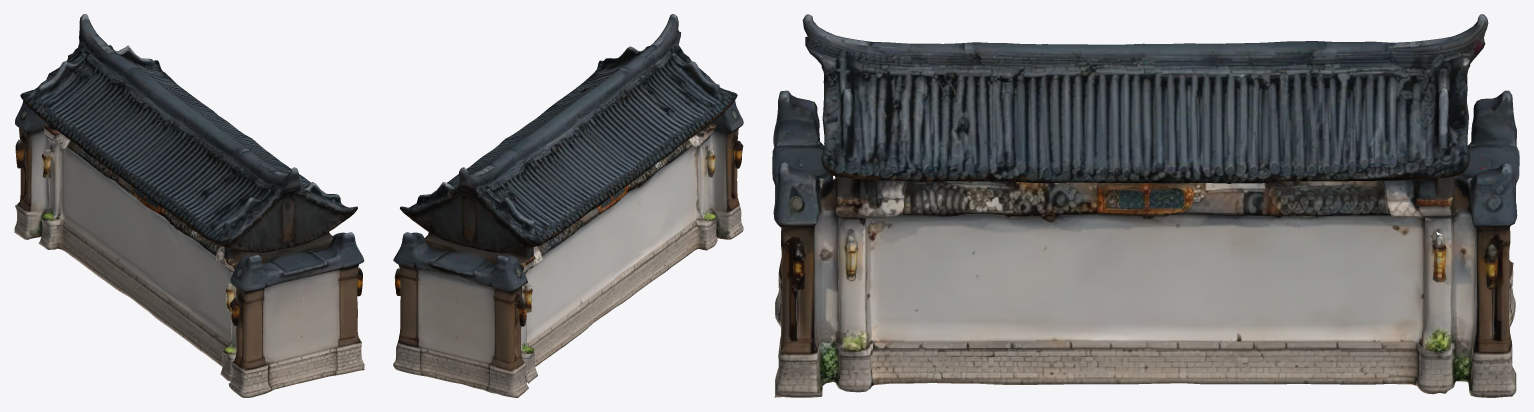
File: back-wall-screen.glb
3 renders of one model, left to right at view 1: azimuth 30°, elevation 25°; view 2: azimuth 150°, elevation 25°; view 3: azimuth 270°, elevation 25°, orthographic. The views are drawn at different scales.
Parts seen in each view (by area): view 1: tripo_node_abdcffc6; view 2: tripo_node_abdcffc6; view 3: tripo_node_abdcffc6.
Boxes of the visible parts, box(x1,y1,x2,y2) form: tripo_node_abdcffc6: box(14, 14, 364, 397); tripo_node_abdcffc6: box(393, 14, 743, 397); tripo_node_abdcffc6: box(772, 14, 1519, 397).
Size of the model in its own units: 0.3352 by 0.4869 by 0.979.
Materials: 1 (1 with a texture image).
